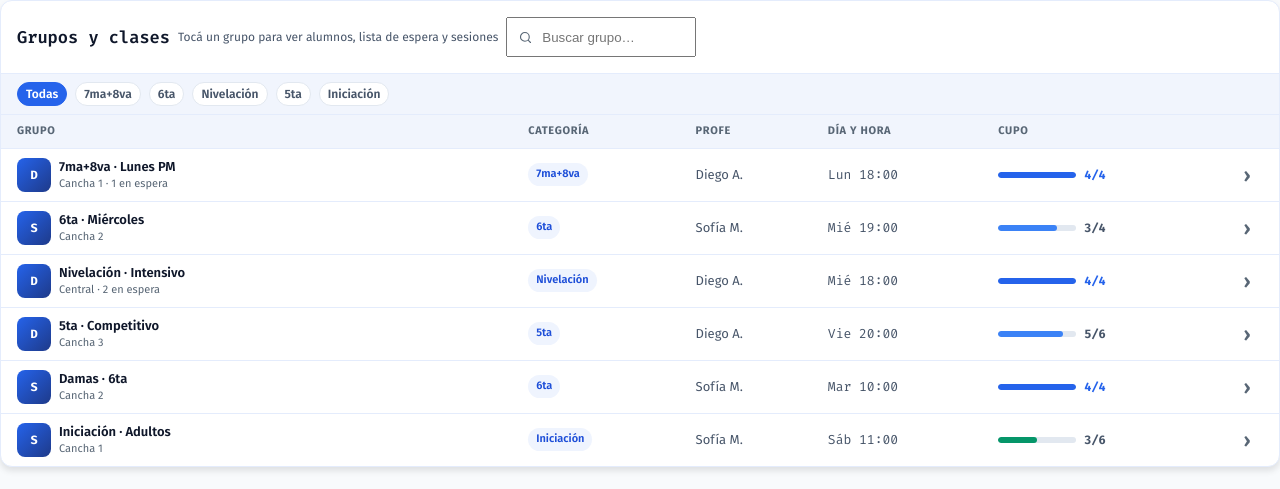
Test: GruposListPageComponent › sin resultados muestra el empty state
This screenshot has width=1280, height=489.
Type "zzzz" into the search field with placeholder "Buscar grupo…" at {"x": 601, "y": 37}, box [506,17,696,57]
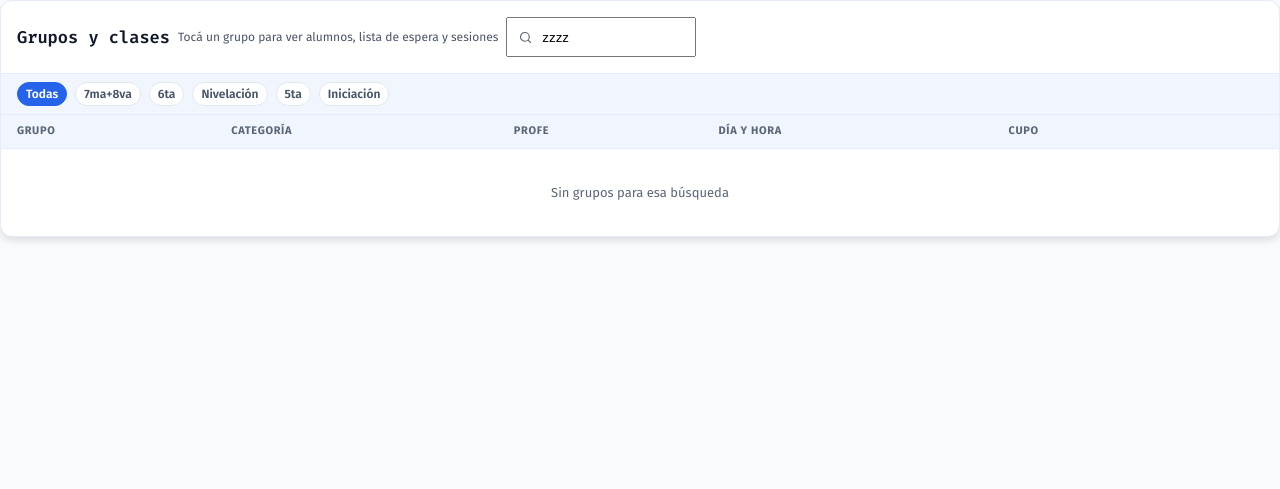
Result: the text "Sin grupos para esa búsqueda" is shown at [1,148,1279,236]
